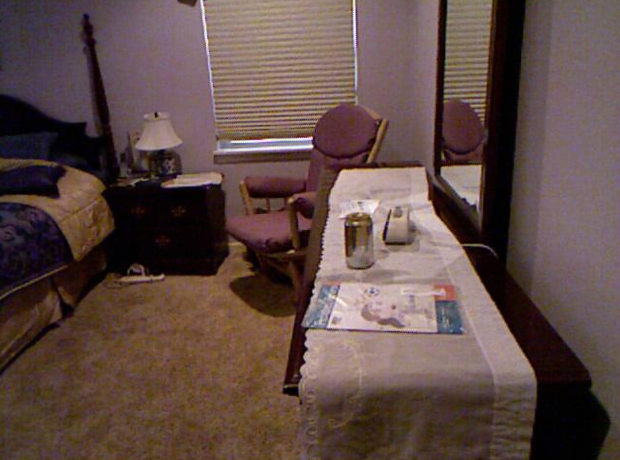chair: (227, 177, 306, 295)
window: (212, 0, 352, 133)
